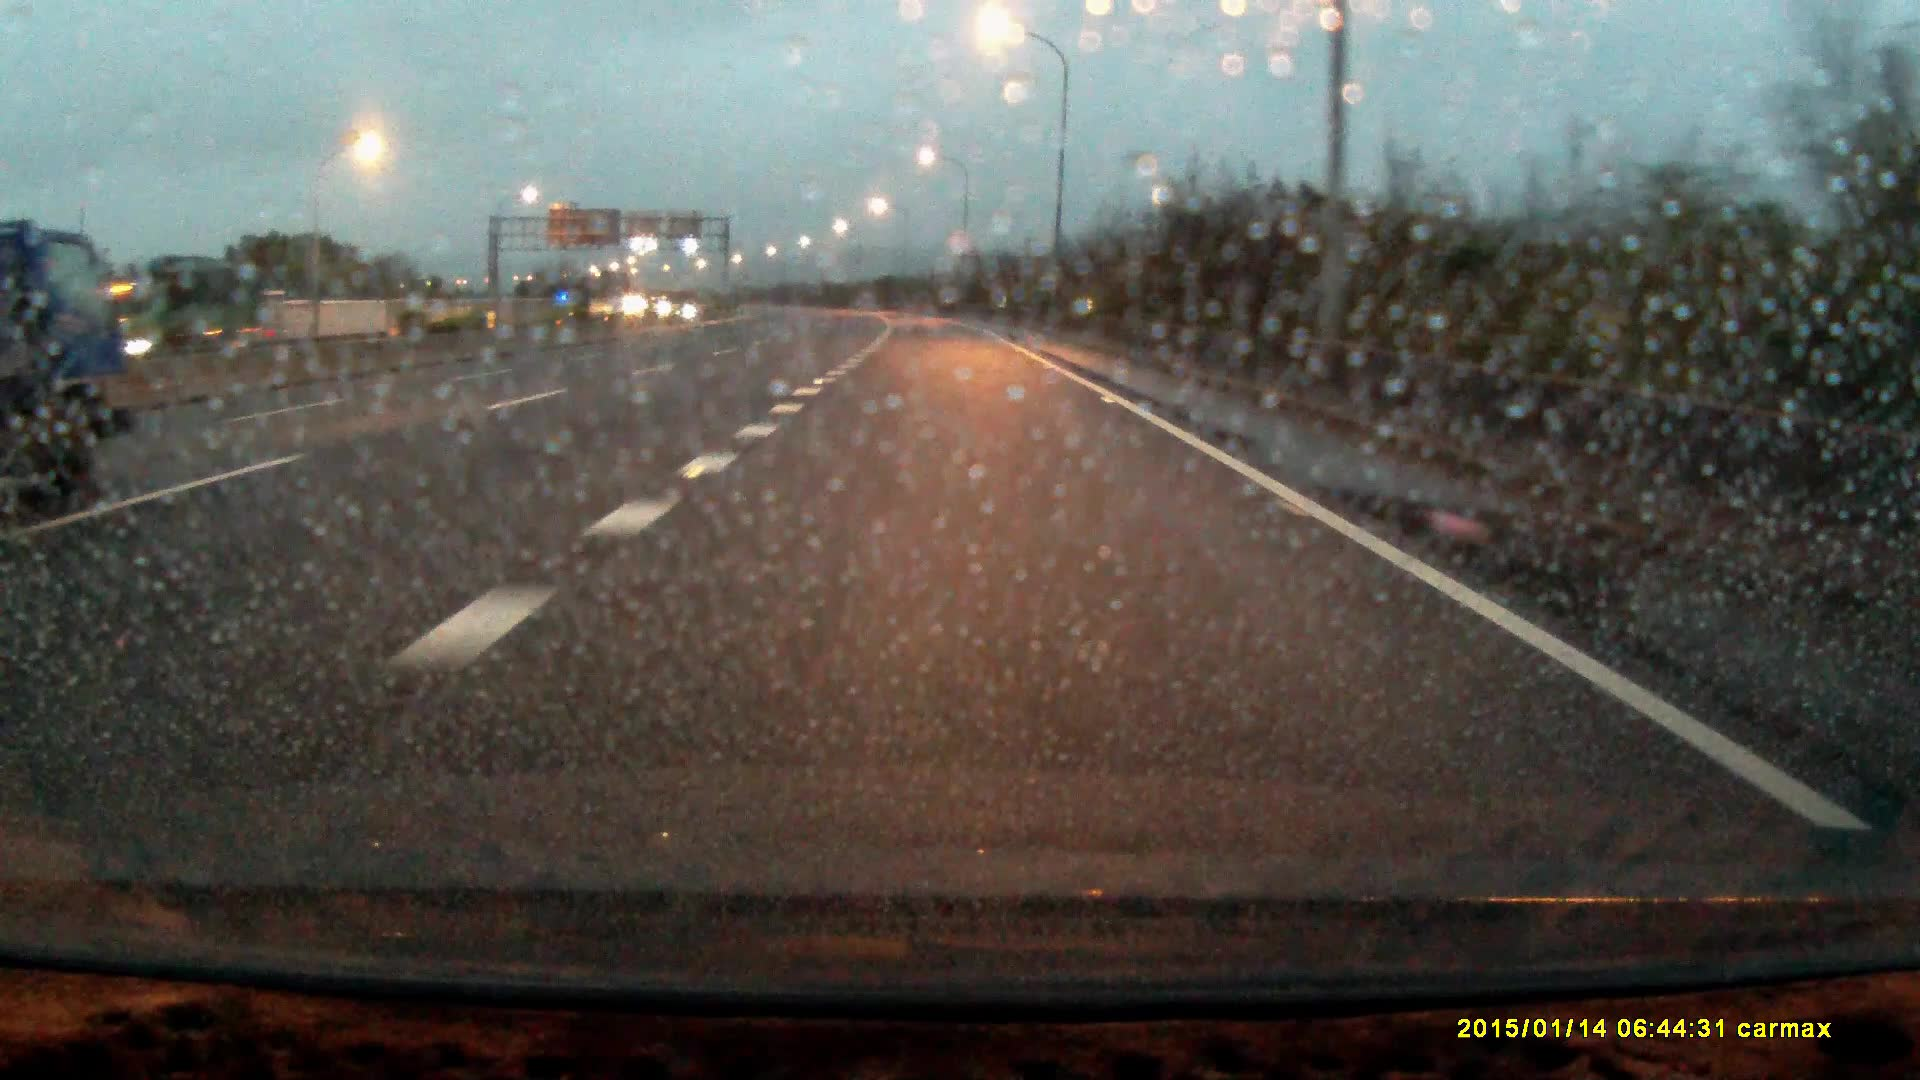vehicle: (135, 258, 272, 353)
